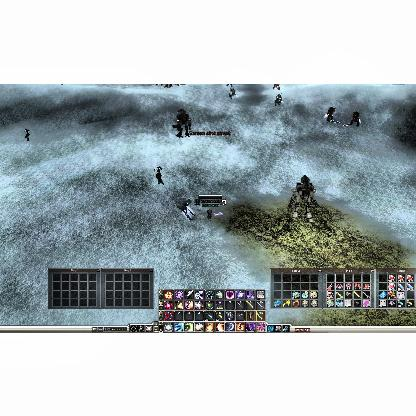caliana: (178, 199, 194, 219), (154, 165, 164, 183), (24, 128, 30, 140)
